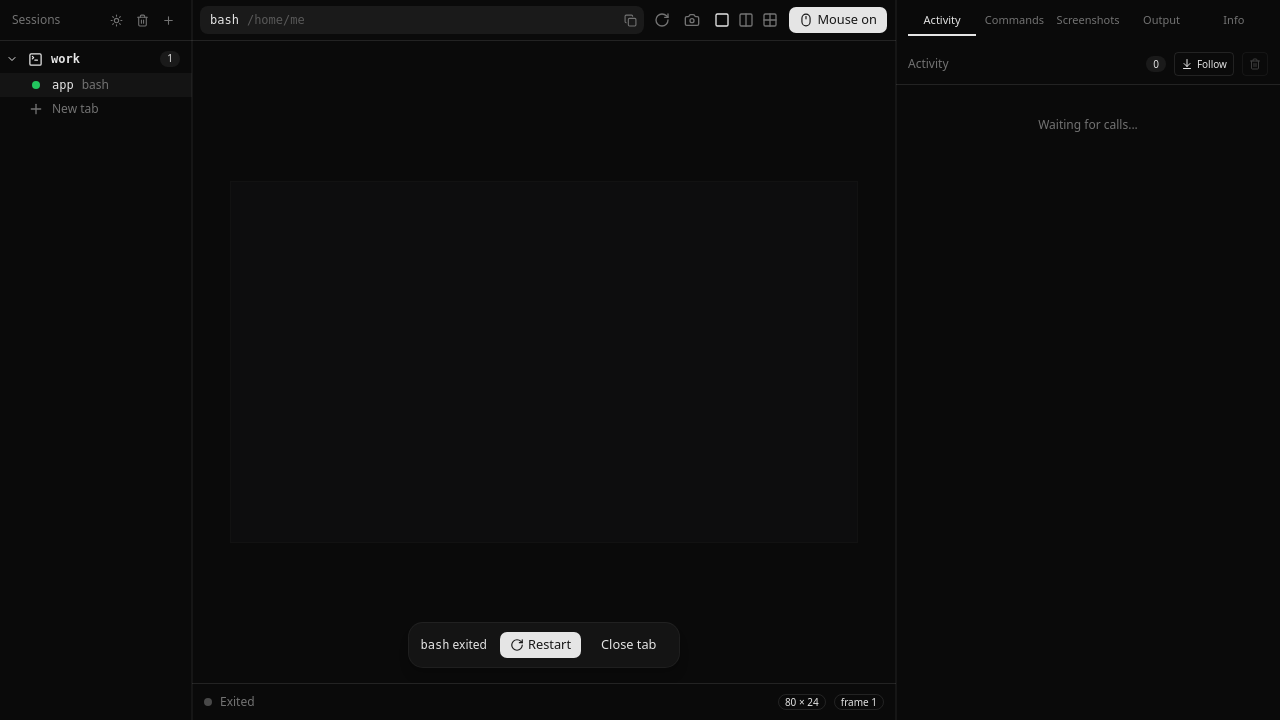
Test: a close the daemon refuses shows an error and stays on the tab
Step 1. Click the button "Close tab" → (629,645), box [590,631,668,659]
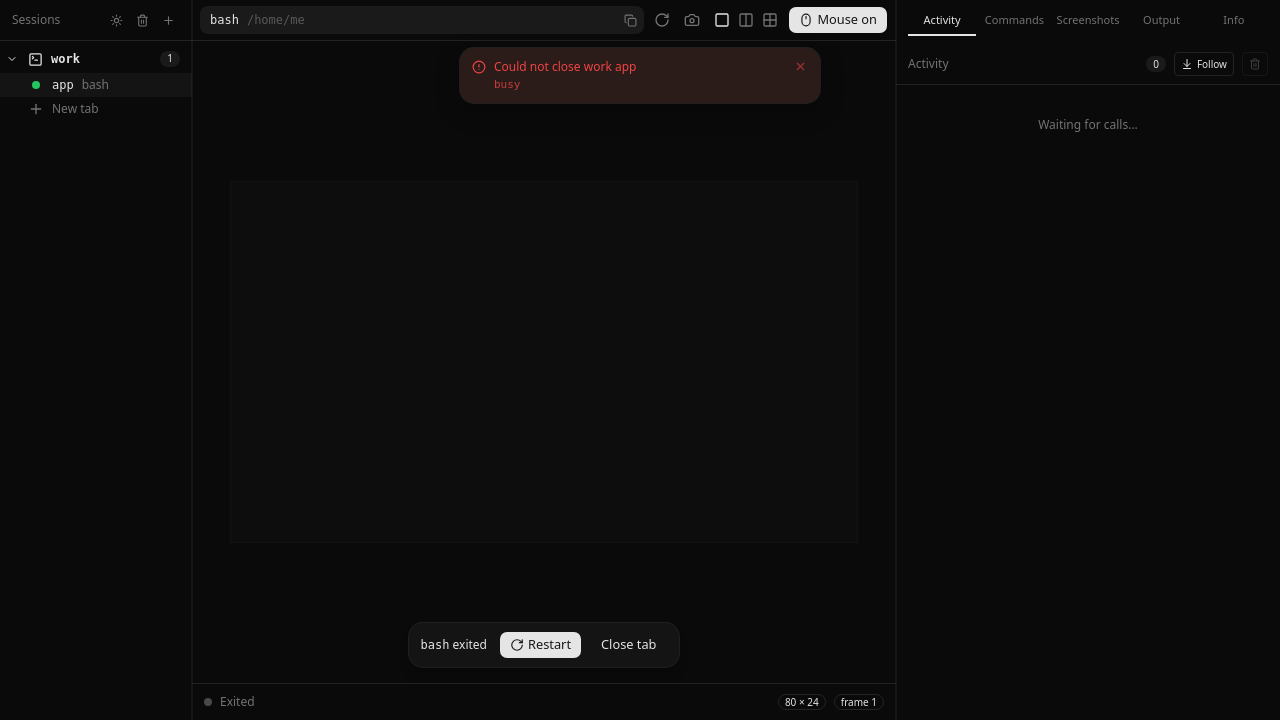
Now the text "Could not close work app" is shown, box [494,58,636,75]
Now the text "busy" is shown, box [494,78,520,91]
